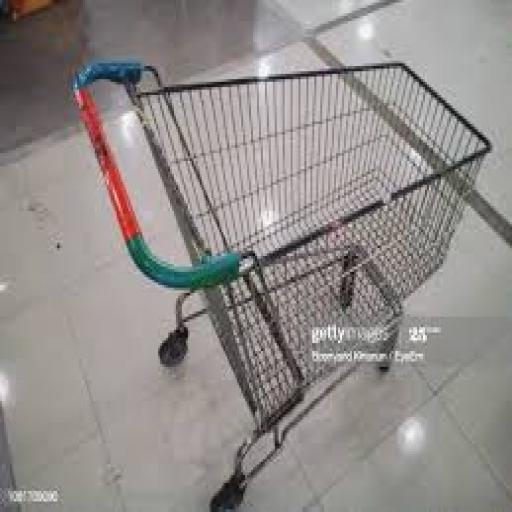shopping_cart: (68, 58, 496, 512)
